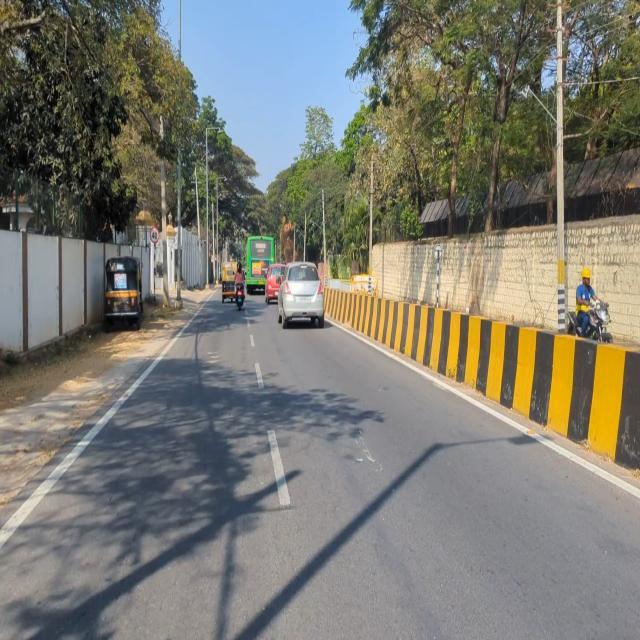bien_cam: (150, 226, 159, 245)
